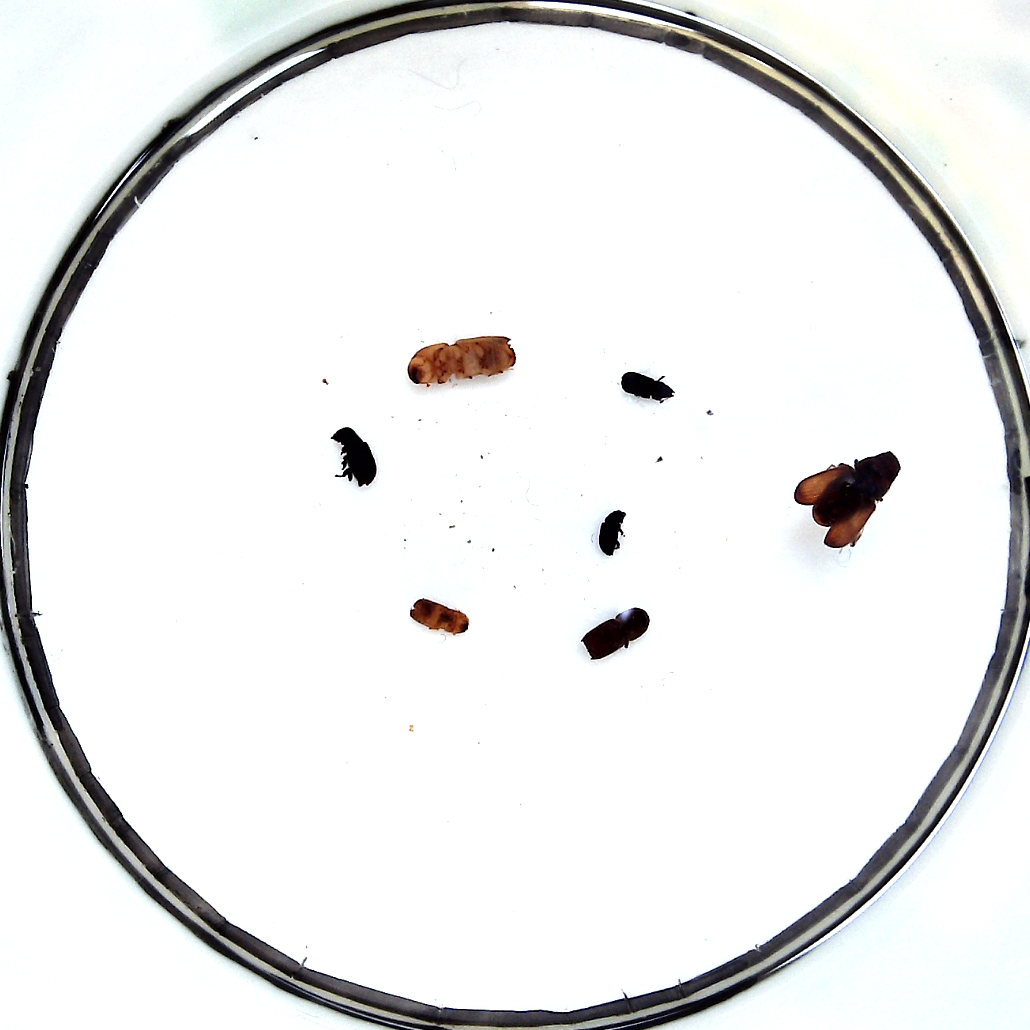Boerner: (408, 337, 521, 388)
Leconte: (794, 449, 902, 555)
Linnaeus: (583, 608, 650, 662)
acuminatus: (405, 595, 469, 638)
armandi: (327, 428, 378, 488)
coleoptera: (599, 504, 632, 558), (621, 368, 669, 401)
